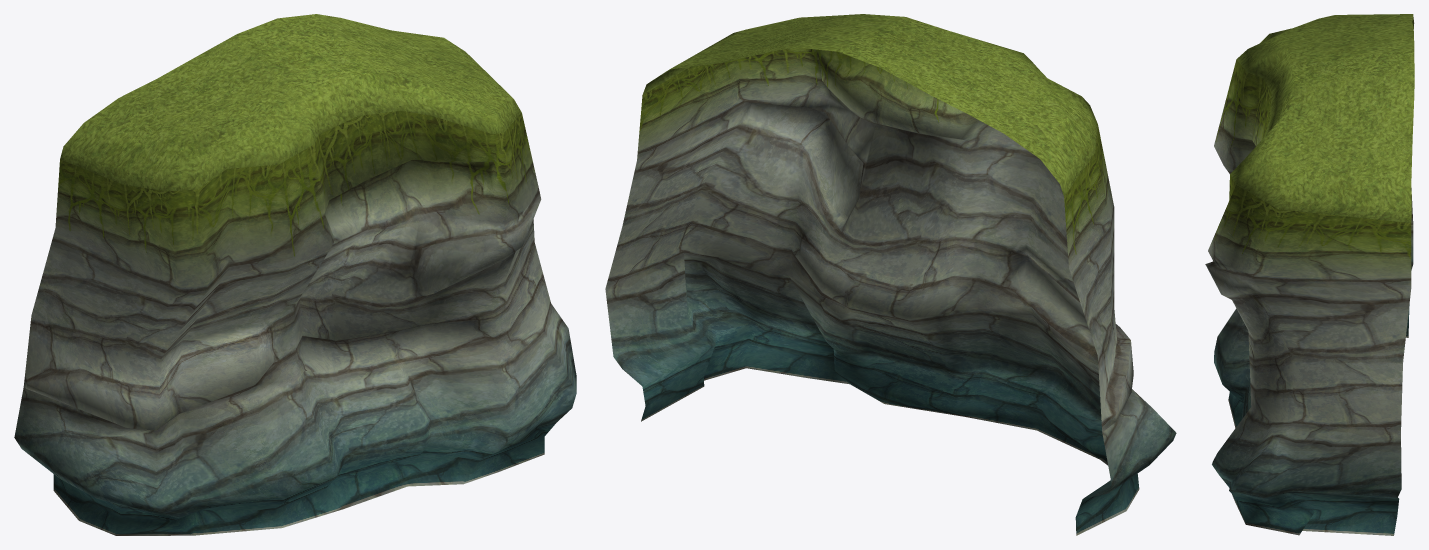
File: beach cliff.FBX
3 views of the same model, side by side, from view 1: azimuth 30°, elevation 25°; view 2: azimuth 150°, elevation 25°; view 3: azimuth 270°, elevation 25° (orthographic). The views are drawn at different scales.
Parts seen in each view (by area): view 1: beach cliff; view 2: beach cliff; view 3: beach cliff.
Boxes of the visible parts, x1=… form: beach cliff: x1=14, y1=14, x2=576, y2=535; beach cliff: x1=605, y1=14, x2=1176, y2=535; beach cliff: x1=1205, y1=14, x2=1414, y2=535.
Size of the model in its own units: 30.48 by 24.36 by 11.76.
